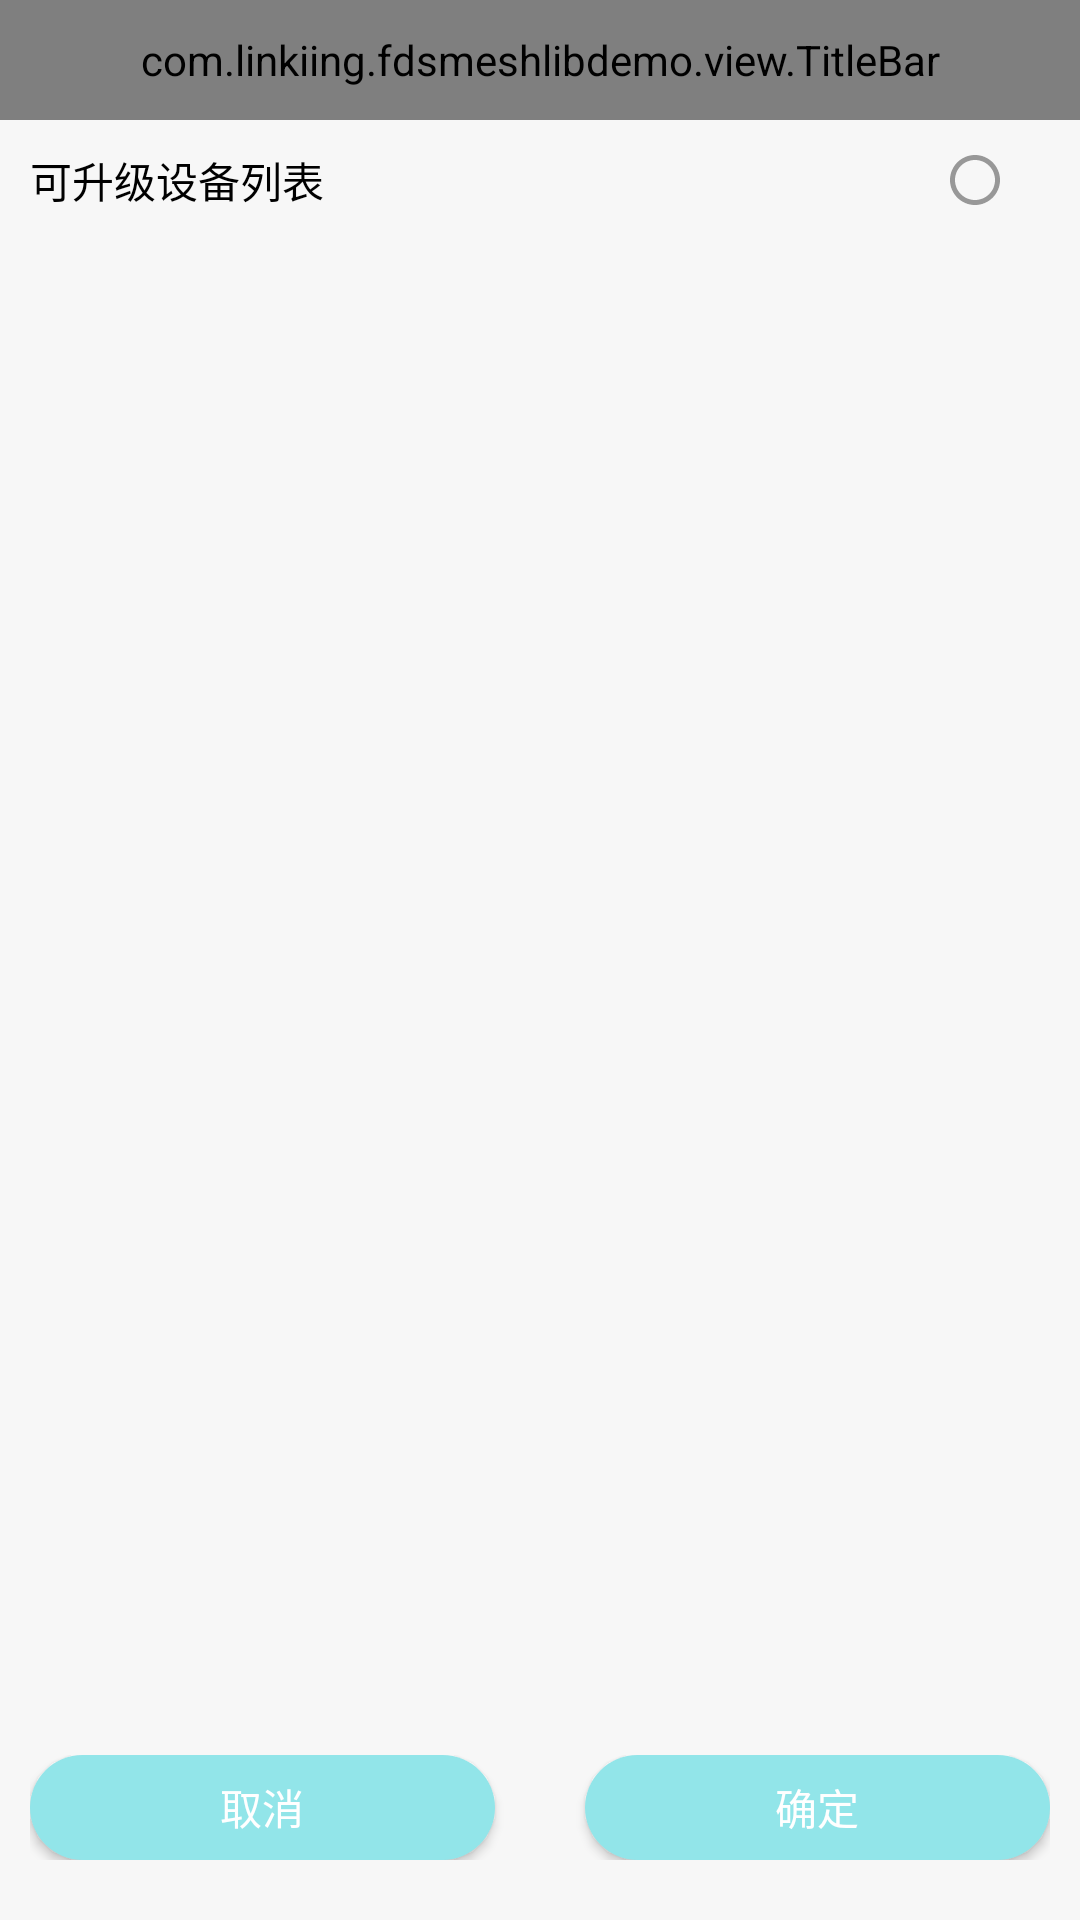

Screen size 1080x1920. Icon name, then its center in pixels as (x=x, y=y):
checked off: (x=975, y=180)
